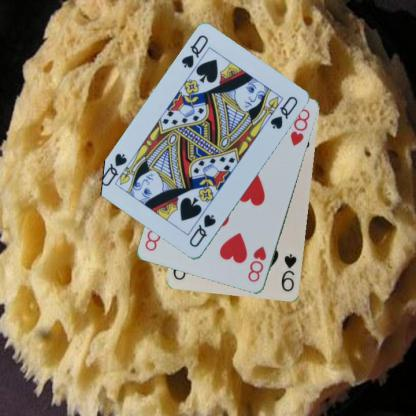8h: (245, 244, 268, 284)
9s: (279, 251, 298, 294)
Qs: (178, 32, 210, 70), (187, 212, 217, 249)
